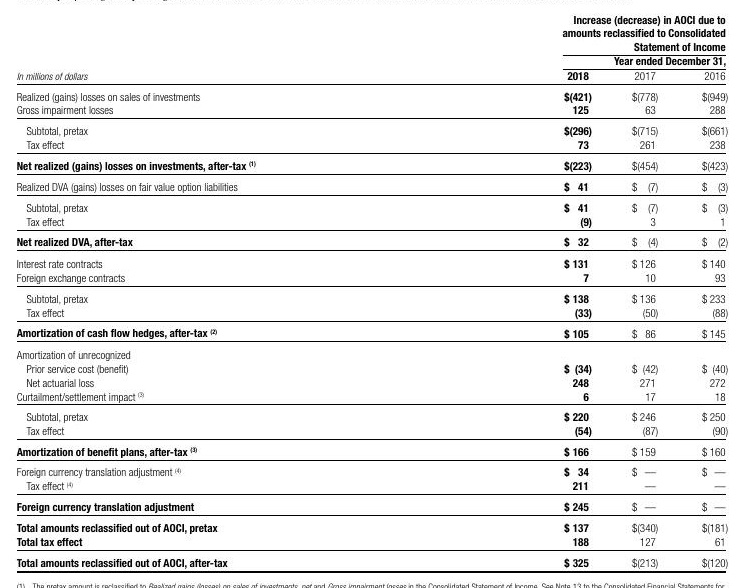table: (0, 0, 747, 588)
